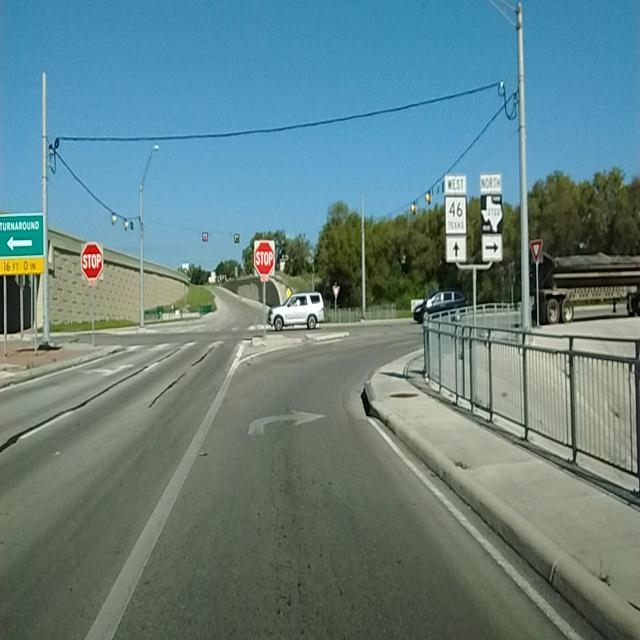Billboard: (410, 299, 423, 312)
Car: (266, 292, 323, 331), (413, 286, 469, 323)
Manhole: (389, 392, 417, 397)
Vegetation: (364, 196, 520, 306), (527, 164, 639, 255), (186, 262, 209, 285)
